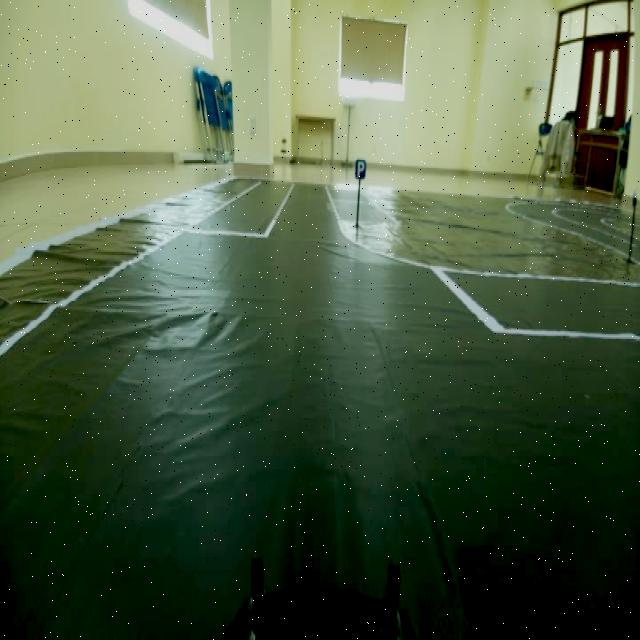parking: (353, 156, 369, 178)
